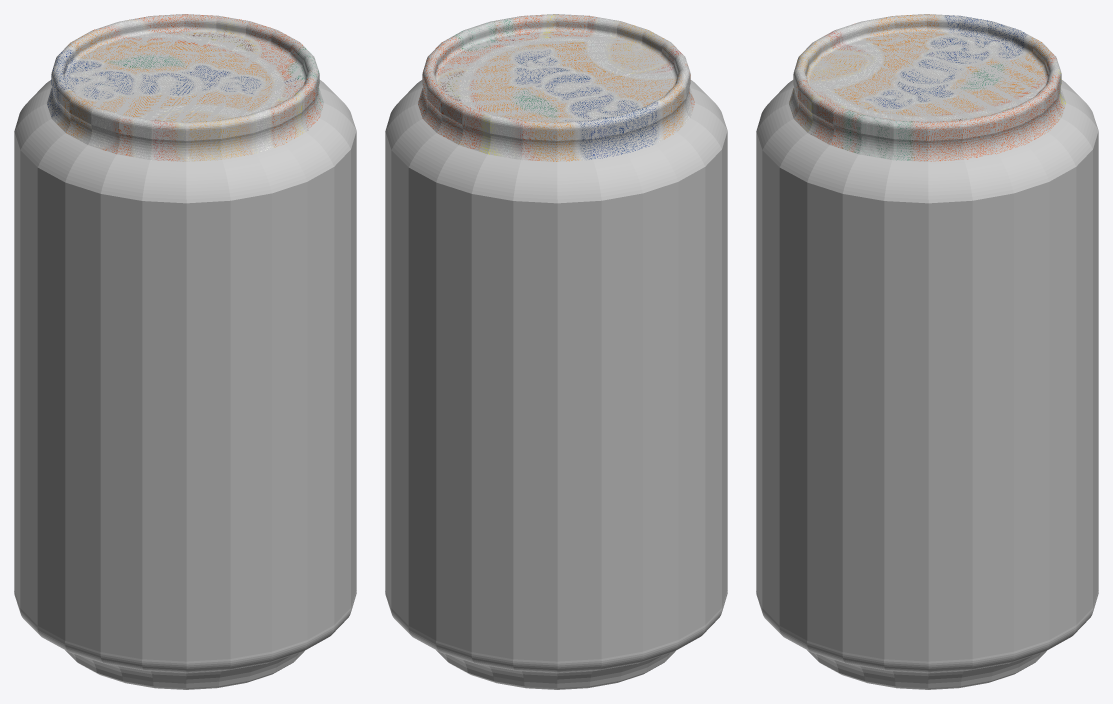
3 views of the same model, side by side, from view 1: azimuth 30°, elevation 25°; view 2: azimuth 150°, elevation 25°; view 3: azimuth 270°, elevation 25° (orthographic).
Visible parts, largest first — view 1: mesh1_mesh1-geometry; view 2: mesh1_mesh1-geometry; view 3: mesh1_mesh1-geometry.
Part boxes in pixels (left/top/right/bottom): mesh1_mesh1-geometry: left=14, top=14, right=356, bottom=689; mesh1_mesh1-geometry: left=385, top=14, right=727, bottom=689; mesh1_mesh1-geometry: left=756, top=14, right=1098, bottom=689.
Size of the model in its own units: 0.4306 by 0.7932 by 0.4306.
